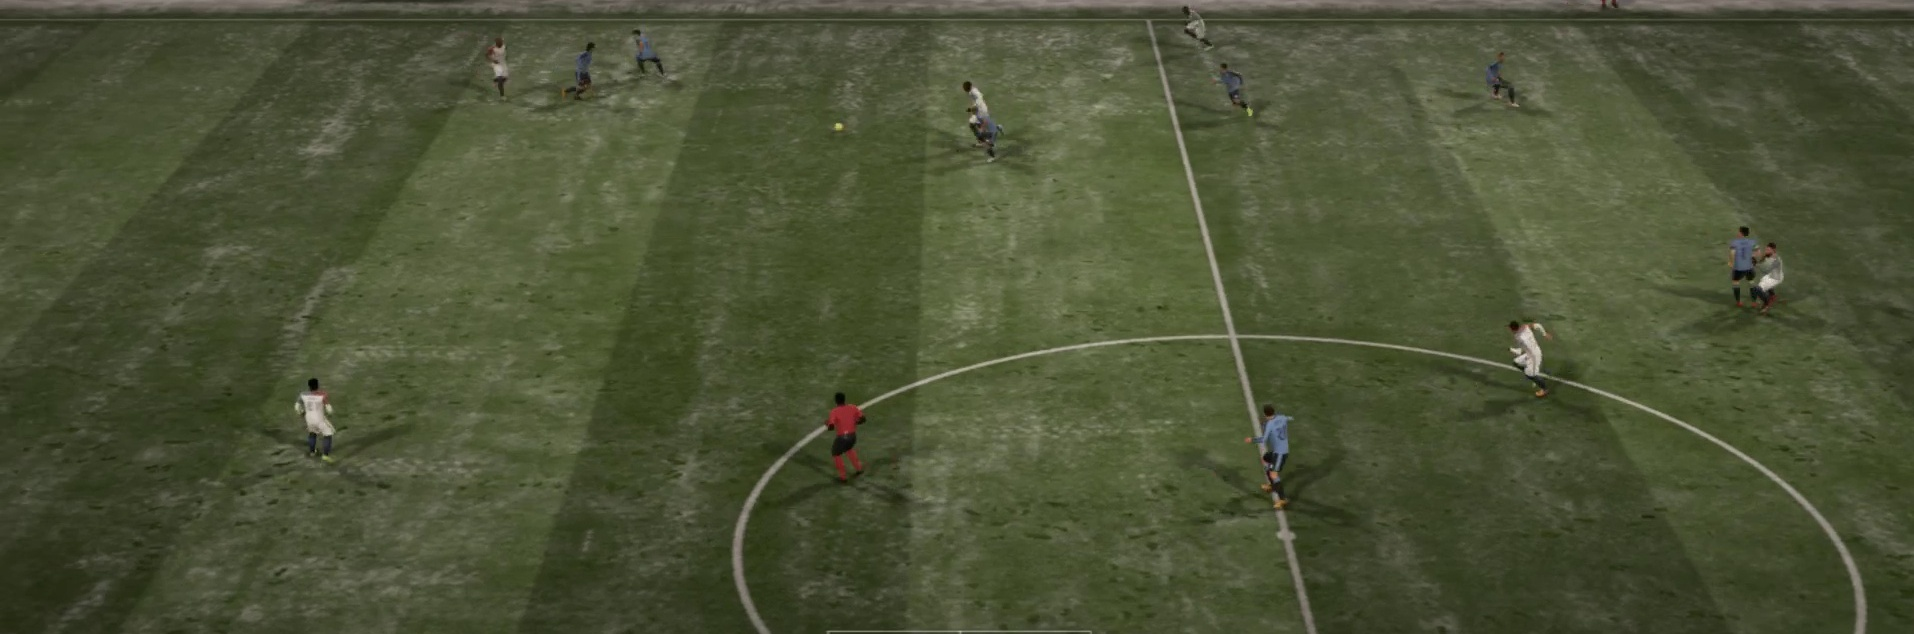ball: (833, 119, 845, 132)
person: (1249, 399, 1299, 515), (290, 373, 340, 475), (1501, 312, 1553, 412), (821, 384, 868, 486), (623, 25, 673, 86), (1729, 225, 1760, 312), (1747, 238, 1784, 310), (481, 30, 516, 108), (564, 36, 601, 108), (965, 103, 1005, 165), (1212, 60, 1253, 117), (1485, 47, 1520, 112), (1182, 2, 1212, 52), (961, 79, 991, 112)
